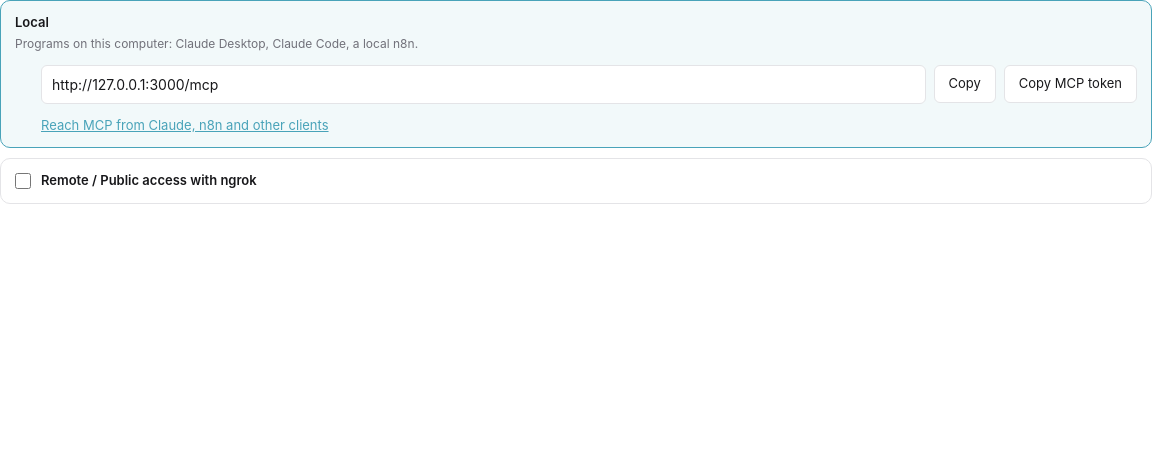
Scenario: McpReach › always shows Local; the Remote setup shows only while Remote is ticked
Expected: the field showing "http://127.0.0.1:3000/mcp" is shown, [41,64,926,104]
Expected: the field labelled "ngrok Authtoken" is not shown
Click the checkbox labelled "Remote / Public access with ngrok": (23, 181) [15,173,31,189]
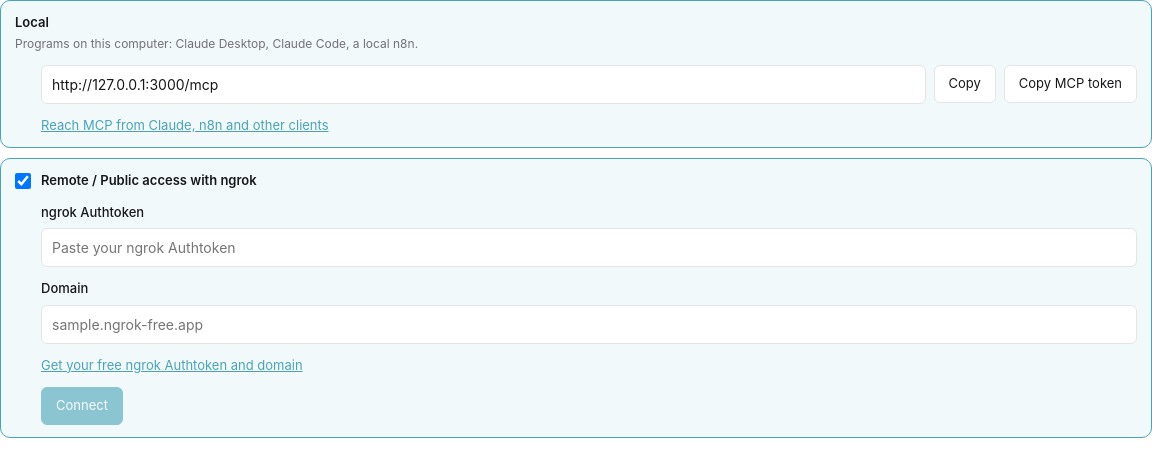
Expected: the field showing "http://127.0.0.1:3000/mcp" is shown, [41,64,926,104]
Now the checkbox labelled "Remote / Public access with ngrok" is checked, box [15,173,31,189]
Now the password field labelled "ngrok Authtoken" is shown, box [41,228,1137,267]
